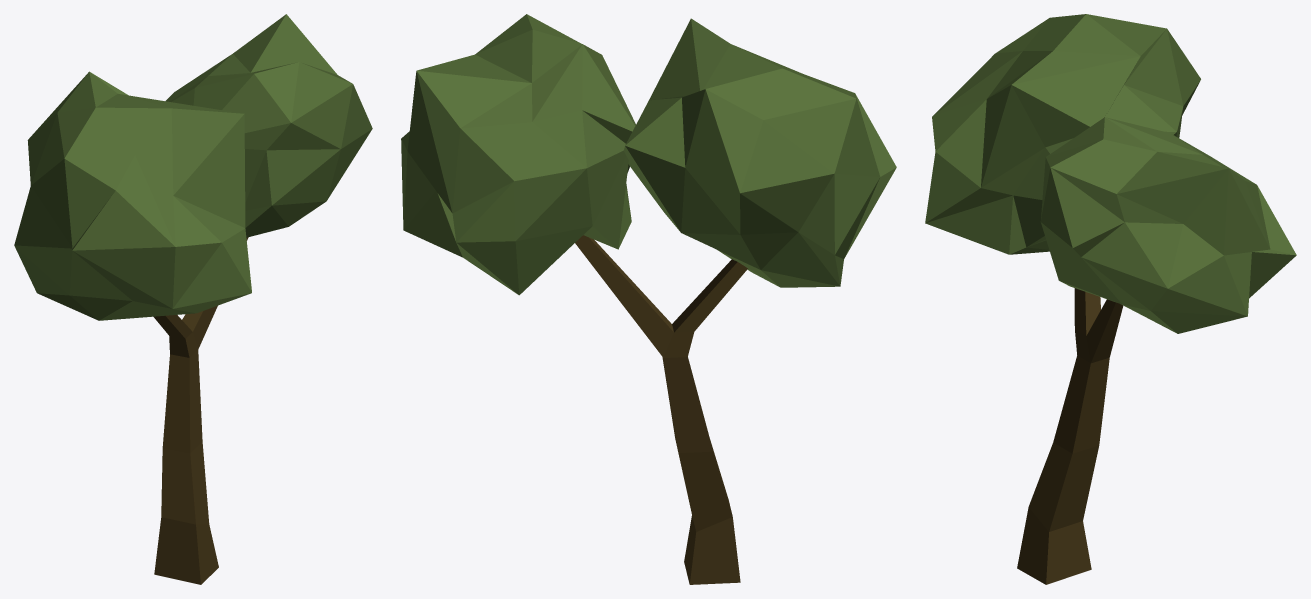
File: Tree_s.fbx
3 views of the same model, side by side, from view 1: azimuth 30°, elevation 25°; view 2: azimuth 150°, elevation 25°; view 3: azimuth 270°, elevation 25° (orthographic). The views are drawn at different scales.
Parts seen in each view (by area): view 1: Tree_s_leaf, Tree_s_log; view 2: Tree_s_leaf, Tree_s_log; view 3: Tree_s_leaf, Tree_s_log.
Part boxes in pixels (x1,y1,x2,y2): Tree_s_leaf: (14, 14, 372, 320); Tree_s_log: (153, 237, 248, 584); Tree_s_leaf: (401, 14, 896, 295); Tree_s_log: (575, 235, 747, 584); Tree_s_leaf: (925, 14, 1296, 333); Tree_s_log: (1017, 288, 1123, 584).
Size of the model in its own units: 5.08 by 6.36 by 4.15.
